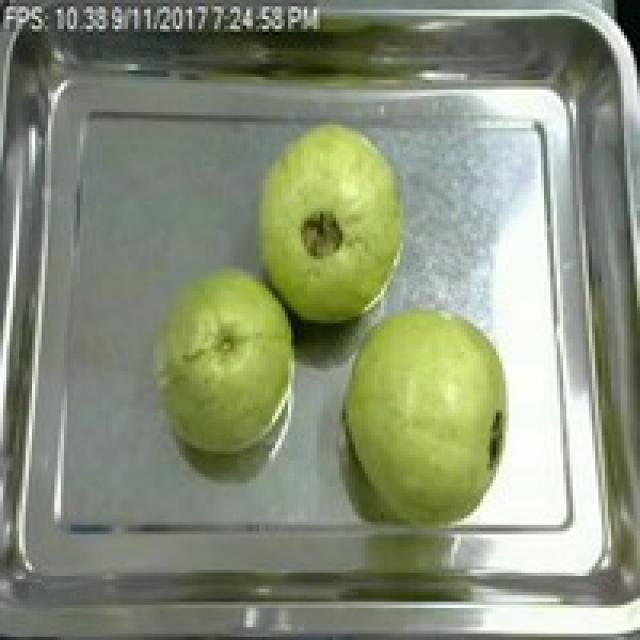Fruit: (332, 298, 518, 524), (243, 112, 416, 333), (141, 256, 307, 461)
